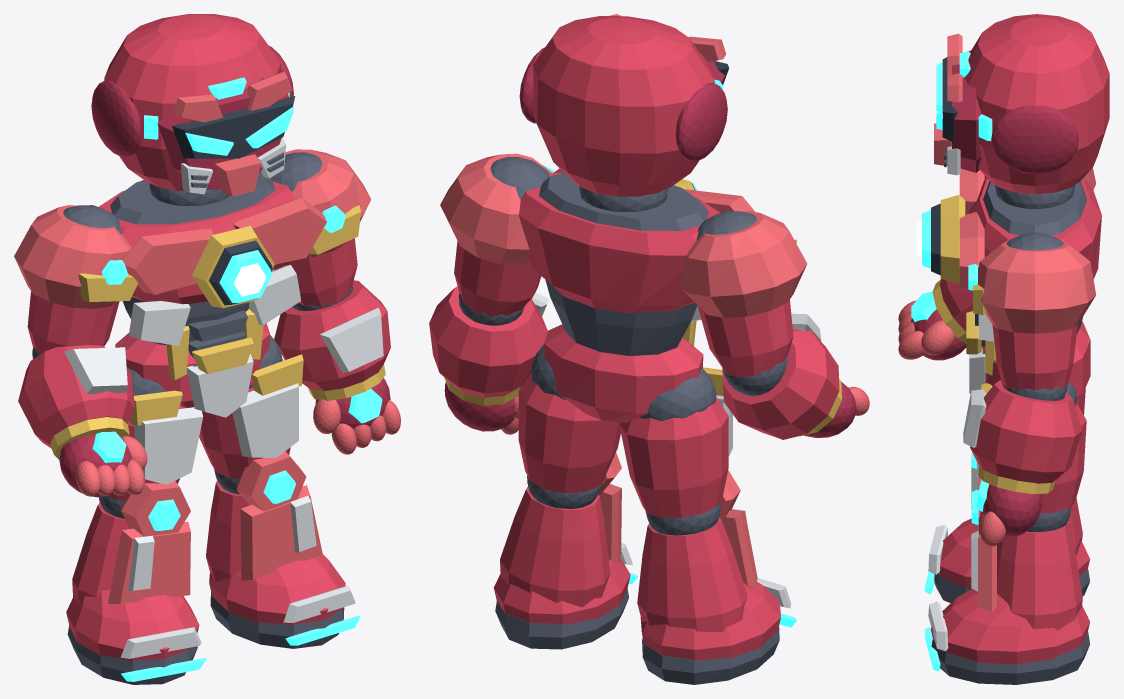
Rendered from nova-ward.glb.
3 renders of one model, left to right at view 1: azimuth 30°, elevation 25°; view 2: azimuth 150°, elevation 25°; view 3: azimuth 270°, elevation 25°, orthographic. The views are drawn at different scales.
Visible parts, largest first — view 1: Helmet_shell, Shoulder_armor_L, Gauntlet_L, Gauntlet_R, Boot_armor_L, Boot_armor_R, Torso_inner, Shin_panel_L, Shin_panel_R, Chest_L, Thigh_panel_R, Thigh_panel_L (+59 smaller); view 2: Helmet_shell, Chest_shell, Torso_inner, Thigh_L, Shin_L, Shin_R, Shoulder_armor_L, Pelvis, Thigh_R, Gauntlet_R, Gauntlet_L, Shoulder_armor_R (+22 smaller); view 3: Helmet_shell, Shoulder_armor_R, Gauntlet_R, Shin_R, Boot_armor_R, Temple_R, Upper_arm_R, Sole_R, Torso_inner, Chest_shell, Boot_armor_L, Face_mask (+38 smaller).
Part boxes in pixels (x1,y1,x2,y2): Helmet_shell: (104,14,280,190); Shoulder_armor_L: (14,205,131,308); Gauntlet_L: (18,345,134,447); Gauntlet_R: (274,280,390,390); Boot_armor_L: (66,589,199,660); Boot_armor_R: (209,554,345,624); Torso_inner: (110,171,274,344); Shin_panel_L: (108,521,190,603); Shin_panel_R: (240,485,322,580); Chest_L: (122,229,213,294); Thigh_panel_R: (232,383,298,457); Thigh_panel_L: (134,407,203,484); Helmet_shell: (533,16,714,196); Chest_shell: (519,173,719,313); Torso_inner: (539,172,708,355); Thigh_L: (619,397,728,517); Shin_L: (637,517,747,632); Shin_R: (500,486,610,607); Shoulder_armor_L: (680,211,807,317); Pelvis: (544,324,703,422); Thigh_R: (518,371,620,493); Gauntlet_R: (429,286,547,397); Gauntlet_L: (722,329,839,439); Shoulder_armor_R: (440,153,552,264); Helmet_shell: (964,14,1109,194); Shoulder_armor_R: (978,241,1095,333); Gauntlet_R: (970,380,1082,483); Shin_R: (997,520,1082,630); Boot_armor_R: (930,589,1089,664); Temple_R: (991,105,1078,174); Upper_arm_R: (992,324,1077,390); Sole_R: (931,632,1089,684); Torso_inner: (983,181,1087,333); Chest_shell: (969,178,1101,278); Boot_armor_L: (939,518,1089,589); Face_mask: (952,50,981,172).
Bounding box in the file's own units: 2.21 × 3.45 × 1.11.
